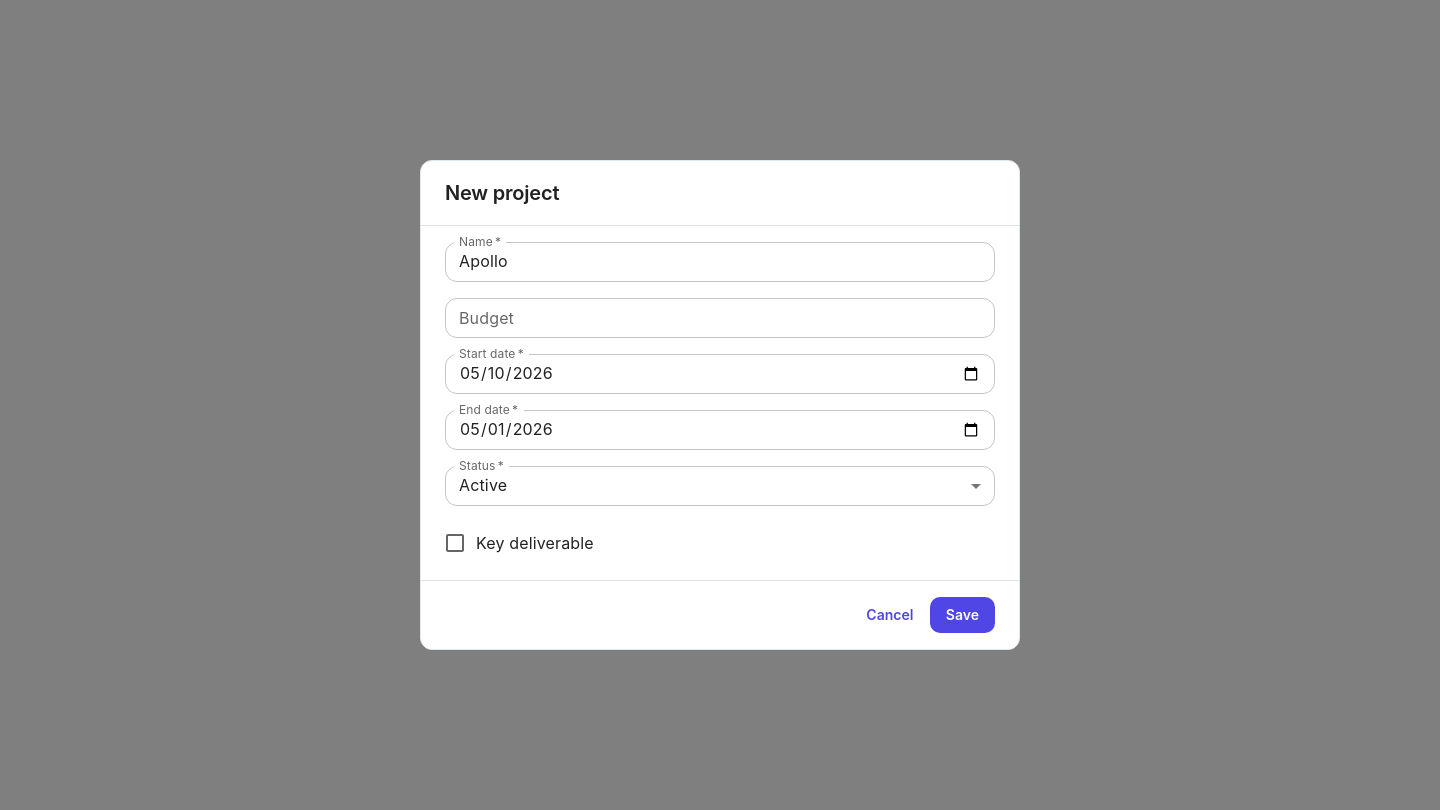
Test: FormDialog › runs custom cross-field validation
Click the button "Save" at (962, 615), box [930, 597, 995, 633]
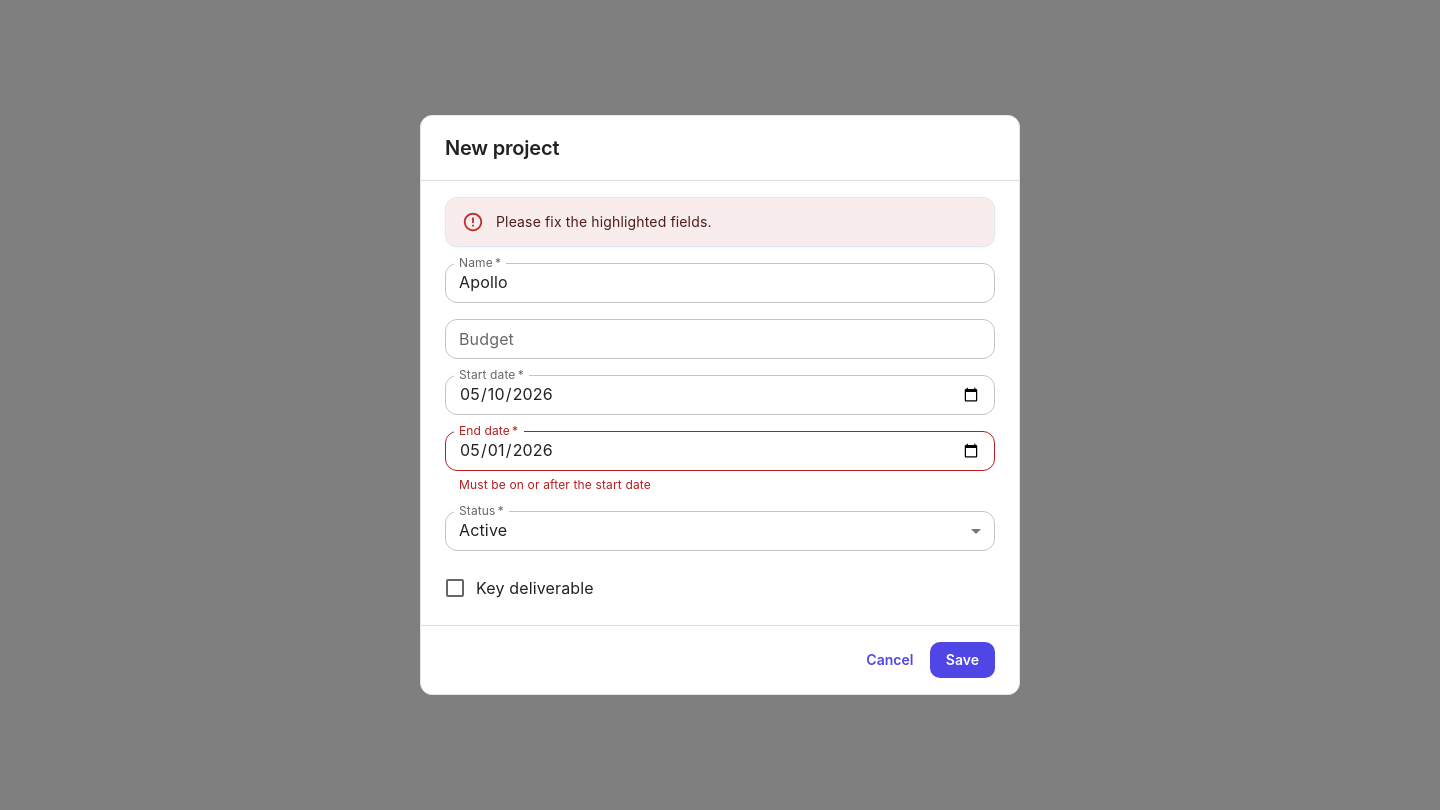
expect the text "Must be on or after the start date" is shown: met, box [459, 477, 651, 492]
